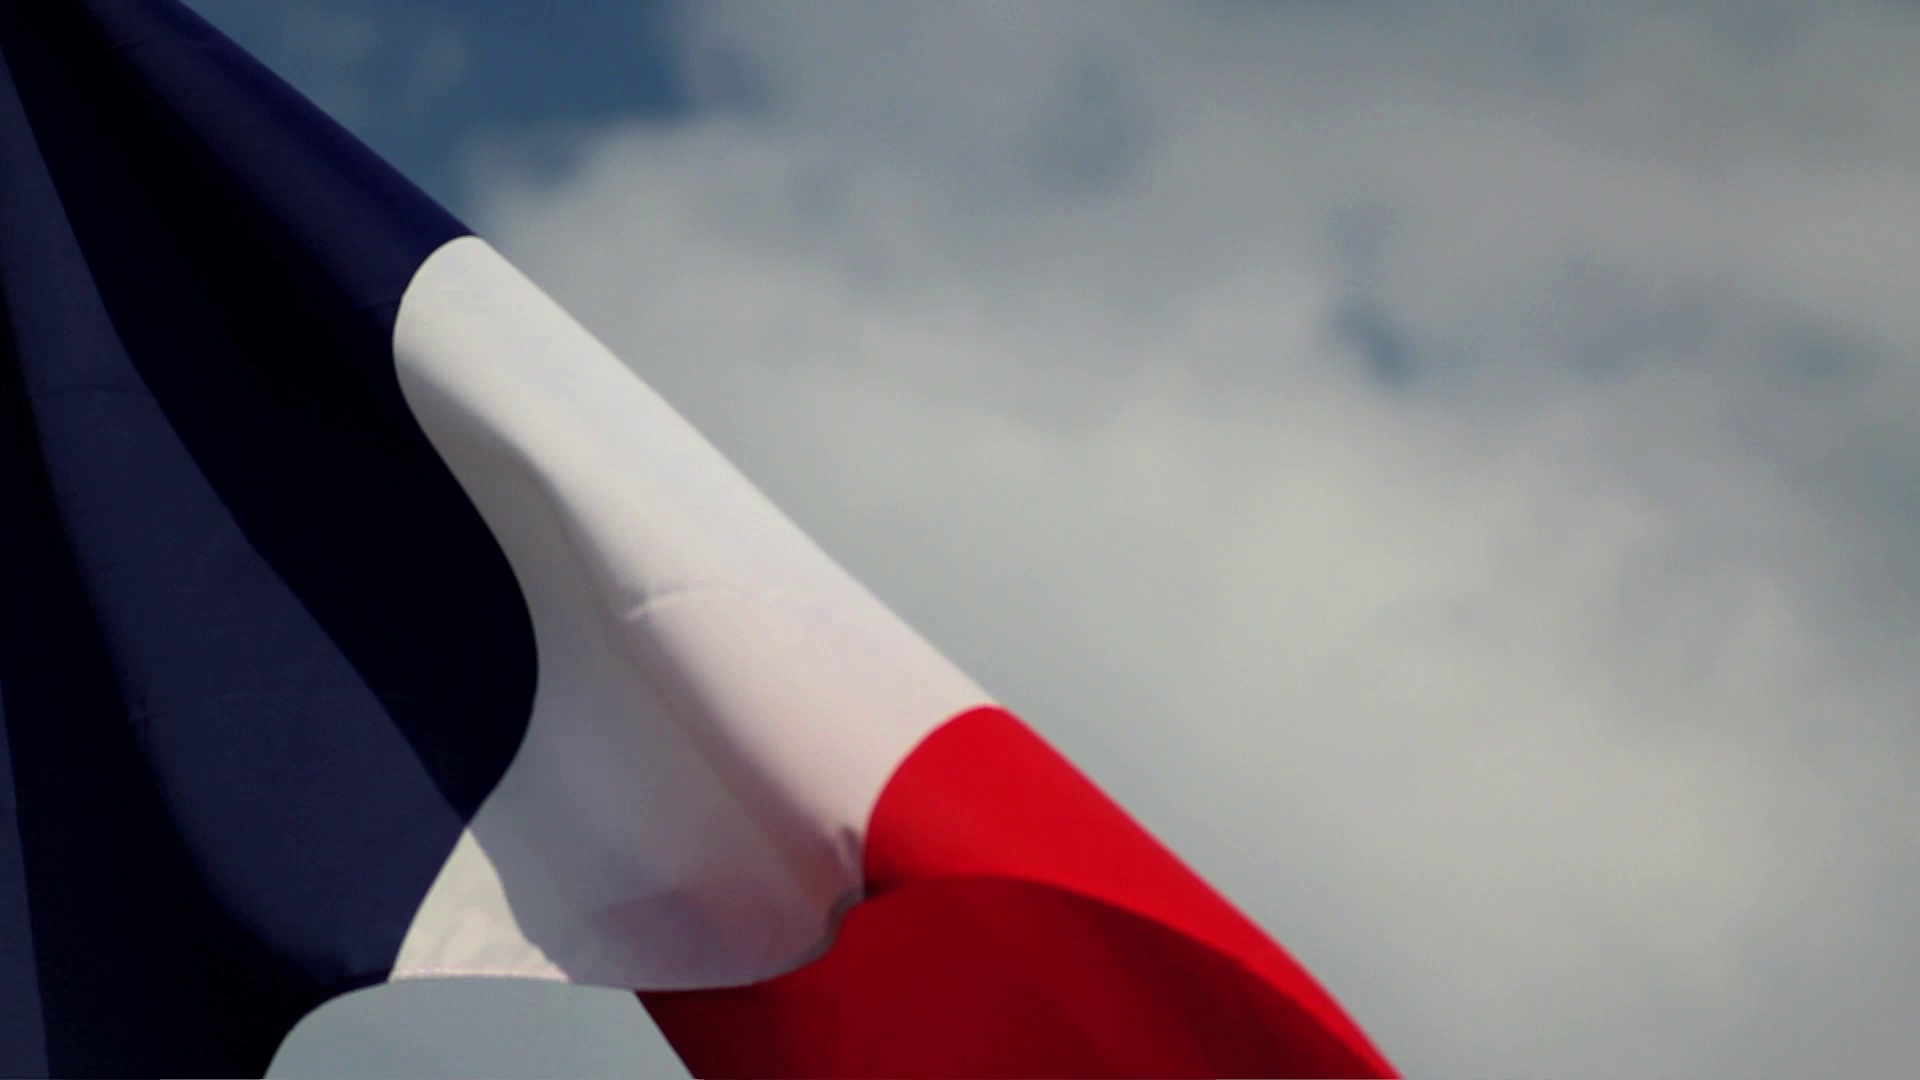French Flag: (1, 1, 1400, 1080)
